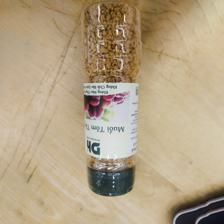TayNinh_green: (82, 1, 141, 197)
